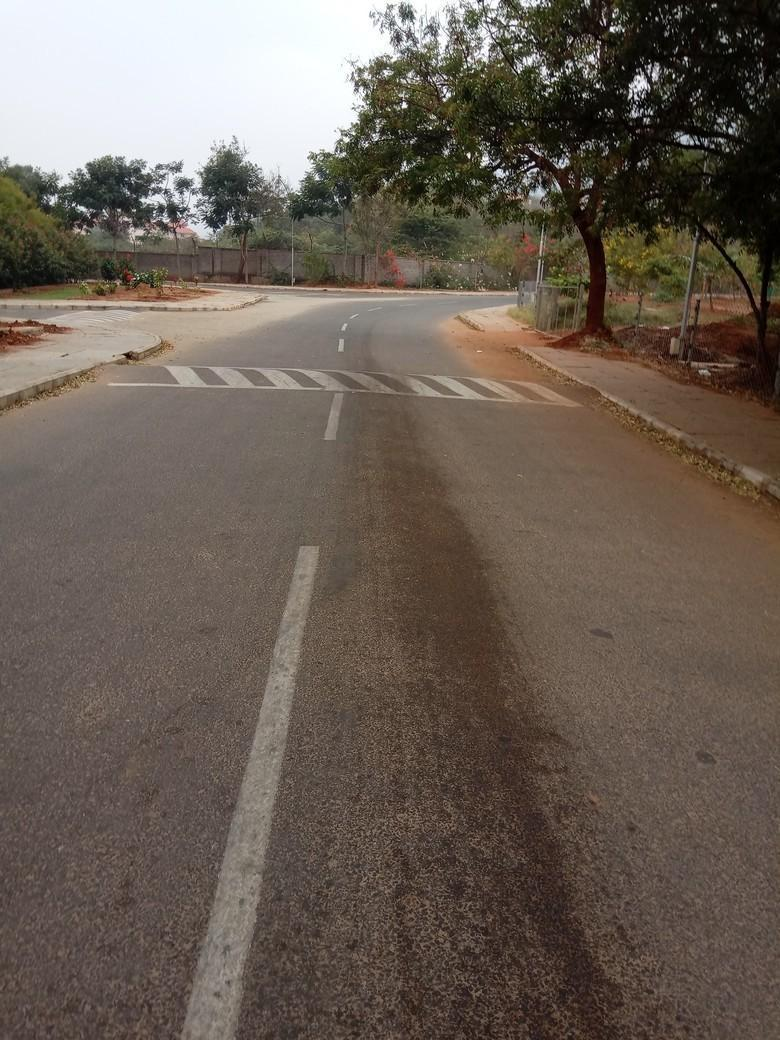speedbreaker: (86, 358, 600, 401)
